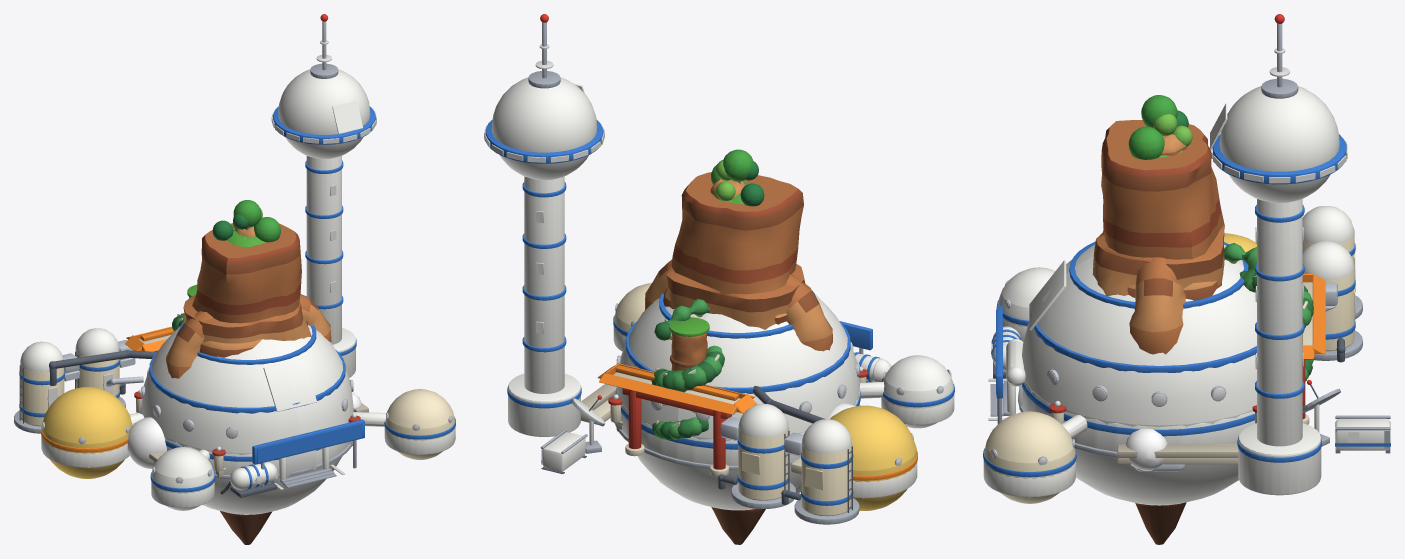
File: dragonball_kit.fbx
3 renders of one model, left to right at view 1: azimuth 30°, elevation 25°; view 2: azimuth 150°, elevation 25°; view 3: azimuth 270°, elevation 25°, orthographic. The views are drawn at different scales.
Visible parts, largest first — view 1: K_Complexo_Capsule__pal~1~0, K_Complexo_Capsule__pal~1~1, K_Penhasco__pal, K_Complexo_Capsule__pal~0~1, K_Complexo_Capsule__pal~0~0, K_Arco_Rocha__pal, K_Nuvem_G__pal, K_Arena_Torneio__pal, K_Complexo_Capsule__cc_window, K_Complexo_Capsule__ki_cyan, K_Ilhota_Flutuante__pal, K_Pilar_A__pal (+1 smaller); view 2: K_Complexo_Capsule__pal~1~0, K_Complexo_Capsule__pal~1~1, K_Penhasco__pal, K_Complexo_Capsule__pal~0~1, K_Complexo_Capsule__pal~0~0, K_Arena_Torneio__pal, K_Santuario_Dragao__pal~1, K_Arco_Rocha__pal, K_Ilhota_Flutuante__pal, K_Pilar_A__pal, K_Complexo_Capsule__ki_cyan, K_Complexo_Capsule__cc_window; view 3: K_Complexo_Capsule__pal~1~1, K_Complexo_Capsule__pal~0~1, K_Penhasco__pal, K_Complexo_Capsule__pal~1~0, K_Arco_Rocha__pal, K_Arena_Torneio__pal, K_Complexo_Capsule__pal~0~0, K_Nuvem_G__pal, K_Ilhota_Flutuante__pal, K_Complexo_Capsule__ki_cyan, K_Pilar_A__pal, K_Complexo_Capsule__cc_window (+3 smaller).
Part boxes in pixels (left/top/right/bottom): K_Complexo_Capsule__pal~1~0: left=19, top=321, right=364, bottom=483; K_Complexo_Capsule__pal~1~1: left=271, top=14, right=453, bottom=440; K_Penhasco__pal: left=183, top=217, right=311, bottom=343; K_Complexo_Capsule__pal~0~1: left=119, top=342, right=455, bottom=514; K_Complexo_Capsule__pal~0~0: left=14, top=388, right=246, bottom=510; K_Arco_Rocha__pal: left=166, top=294, right=331, bottom=378; K_Nuvem_G__pal: left=127, top=392, right=361, bottom=468; K_Arena_Torneio__pal: left=125, top=326, right=368, bottom=478; K_Complexo_Capsule__cc_window: left=42, top=185, right=452, bottom=483; K_Complexo_Capsule__ki_cyan: left=47, top=40, right=376, bottom=489; K_Ilhota_Flutuante__pal: left=220, top=511, right=271, bottom=544; K_Pilar_A__pal: left=233, top=200, right=262, bottom=244; K_Complexo_Capsule__pal~1~0: left=626, top=292, right=951, bottom=515; K_Complexo_Capsule__pal~1~1: left=485, top=14, right=708, bottom=425; K_Penhasco__pal: left=666, top=165, right=805, bottom=329; K_Complexo_Capsule__pal~0~1: left=508, top=310, right=881, bottom=510; K_Complexo_Capsule__pal~0~0: left=731, top=359, right=954, bottom=524; K_Arena_Torneio__pal: left=581, top=362, right=867, bottom=476; K_Santuario_Dragao__pal~1: left=651, top=305, right=724, bottom=439; K_Arco_Rocha__pal: left=645, top=259, right=832, bottom=351; K_Ilhota_Flutuante__pal: left=711, top=507, right=765, bottom=544; K_Pilar_A__pal: left=716, top=149, right=758, bottom=196; K_Complexo_Capsule__ki_cyan: left=484, top=44, right=604, bottom=162; K_Complexo_Capsule__cc_window: left=536, top=211, right=943, bottom=465; K_Complexo_Capsule__pal~1~1: left=986, top=14, right=1346, bottom=465; K_Complexo_Capsule__pal~0~1: left=983, top=328, right=1390, bottom=505; K_Penhasco__pal: left=1092, top=110, right=1224, bottom=295; K_Complexo_Capsule__pal~1~0: left=996, top=206, right=1355, bottom=376; K_Arco_Rocha__pal: left=1129, top=257, right=1185, bottom=354; K_Arena_Torneio__pal: left=1049, top=274, right=1325, bottom=464; K_Complexo_Capsule__pal~0~0: left=994, top=287, right=1362, bottom=358; K_Nuvem_G__pal: left=1126, top=428, right=1185, bottom=471; K_Ilhota_Flutuante__pal: left=1135, top=502, right=1186, bottom=544; K_Complexo_Capsule__ki_cyan: left=988, top=48, right=1347, bottom=420; K_Pilar_A__pal: left=1141, top=95, right=1177, bottom=136; K_Complexo_Capsule__cc_window: left=991, top=227, right=1303, bottom=464.
Bounding box in the file's own units: 112 × 145 × 88.14.
11 materials, 1 textured.
